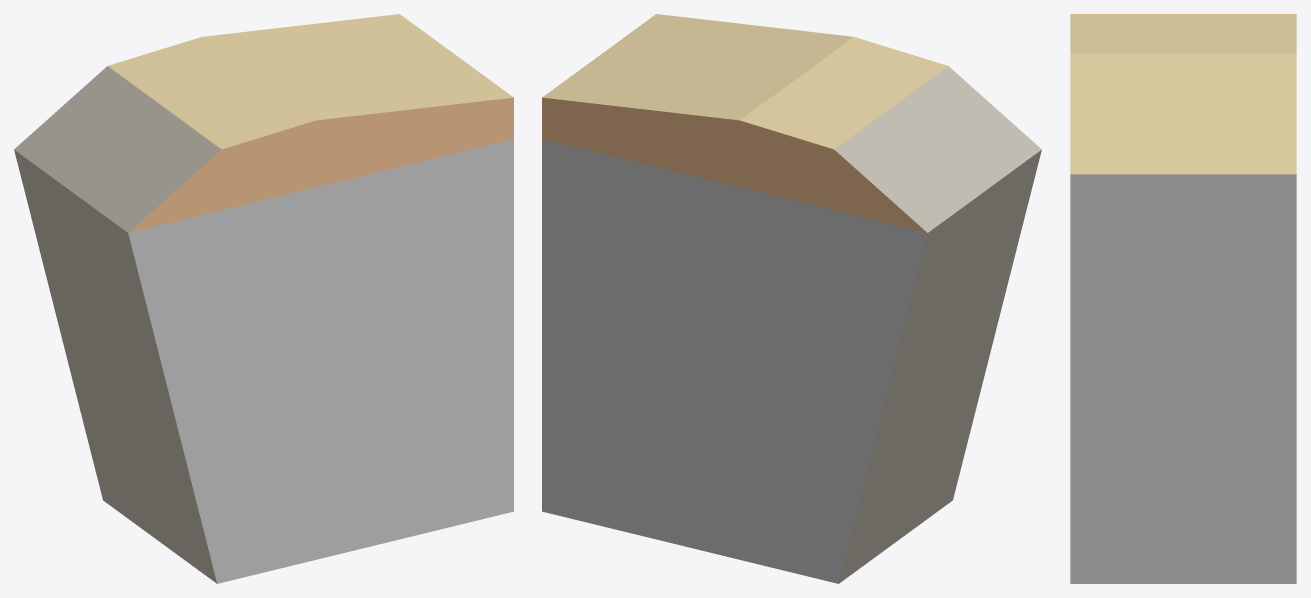
File: Path_Bridge_Center_Top_1x2.glb
3 renders of one model, left to right at view 1: azimuth 30°, elevation 25°; view 2: azimuth 150°, elevation 25°; view 3: azimuth 270°, elevation 25°, orthographic.
Parts seen in each view (by area): view 1: Path_Bridge_Center_Top_1x2; view 2: Path_Bridge_Center_Top_1x2; view 3: Path_Bridge_Center_Top_1x2.
Part boxes in pixels (box(x1,y1,x2,y2)): Path_Bridge_Center_Top_1x2: box(14, 14, 513, 583); Path_Bridge_Center_Top_1x2: box(542, 14, 1041, 583); Path_Bridge_Center_Top_1x2: box(1070, 14, 1296, 583).
Size of the model in its own units: 195 by 212 by 100.
